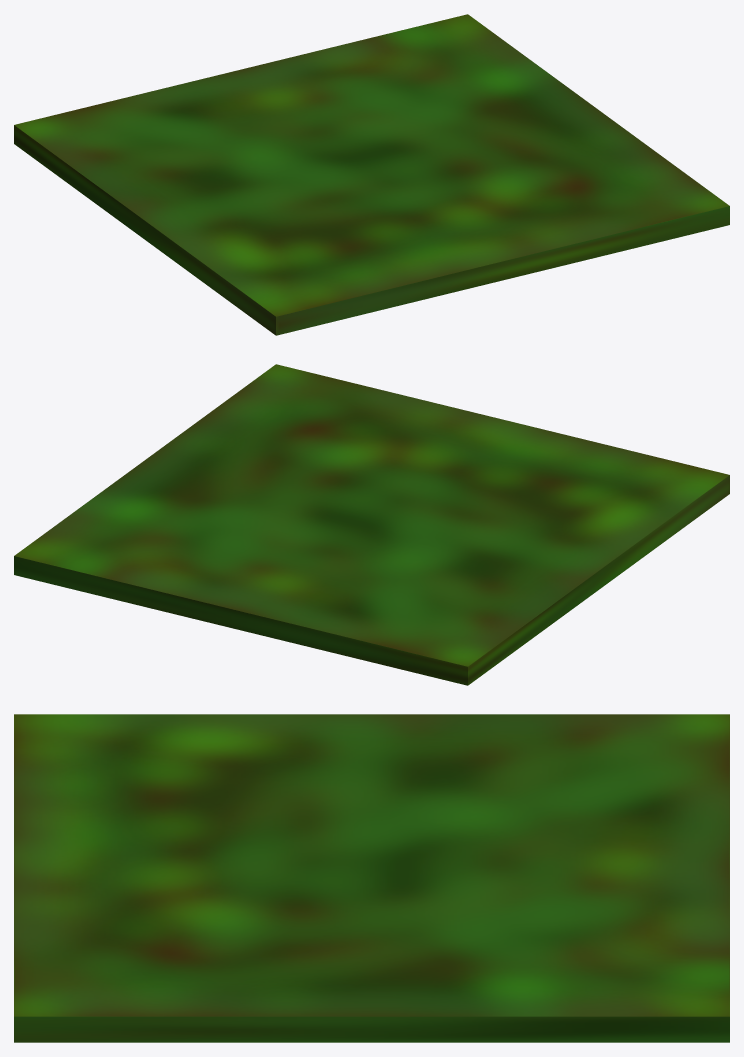
The model's file is PlainMesh50x50.obj.
The picture shows the model from 3 angles, top to bottom: view 1: azimuth 30°, elevation 25°; view 2: azimuth 150°, elevation 25°; view 3: azimuth 270°, elevation 25°; orthographic projection. The views are drawn at different scales.
Size of the model in its own units: 50 by 2 by 50.
